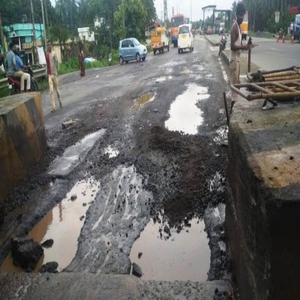pothole: (4, 174, 104, 277), (123, 207, 217, 286), (164, 79, 211, 137), (132, 91, 159, 106)
